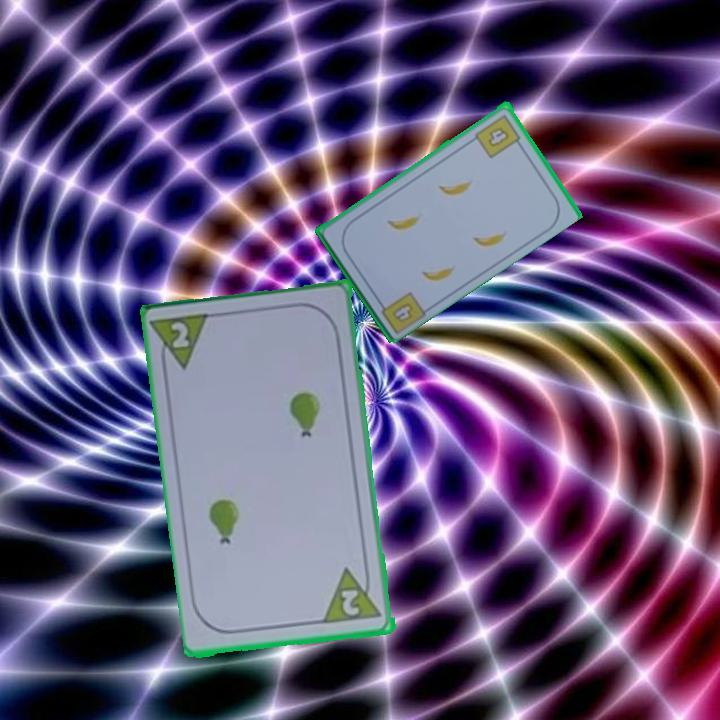2p: (149, 310, 215, 376), (321, 562, 386, 627)
4b: (472, 111, 525, 161), (373, 287, 428, 335)
